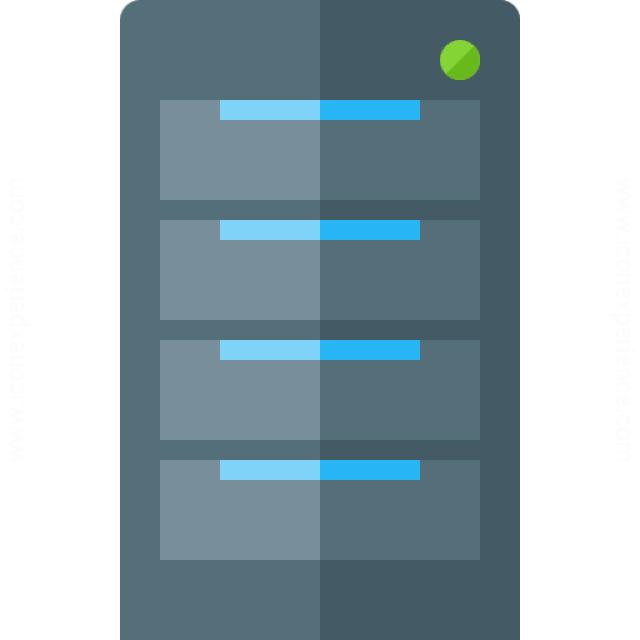Server: (72, 0, 575, 640)
